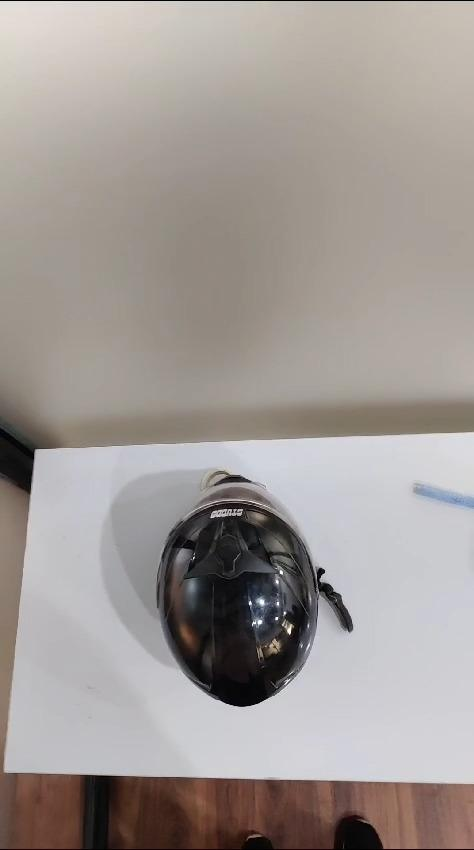Helmet: (157, 471, 352, 705)
